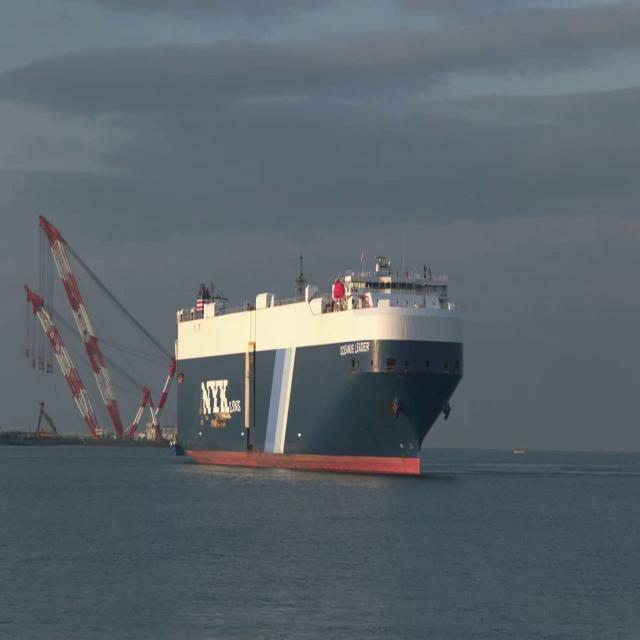OCR: (195, 376, 241, 421), (339, 342, 371, 360)
